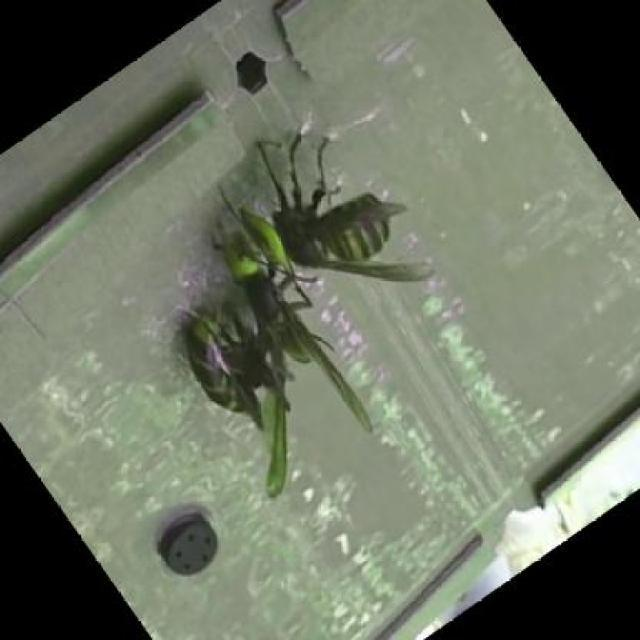Wasp: (249, 130, 441, 282), (182, 282, 296, 496)
